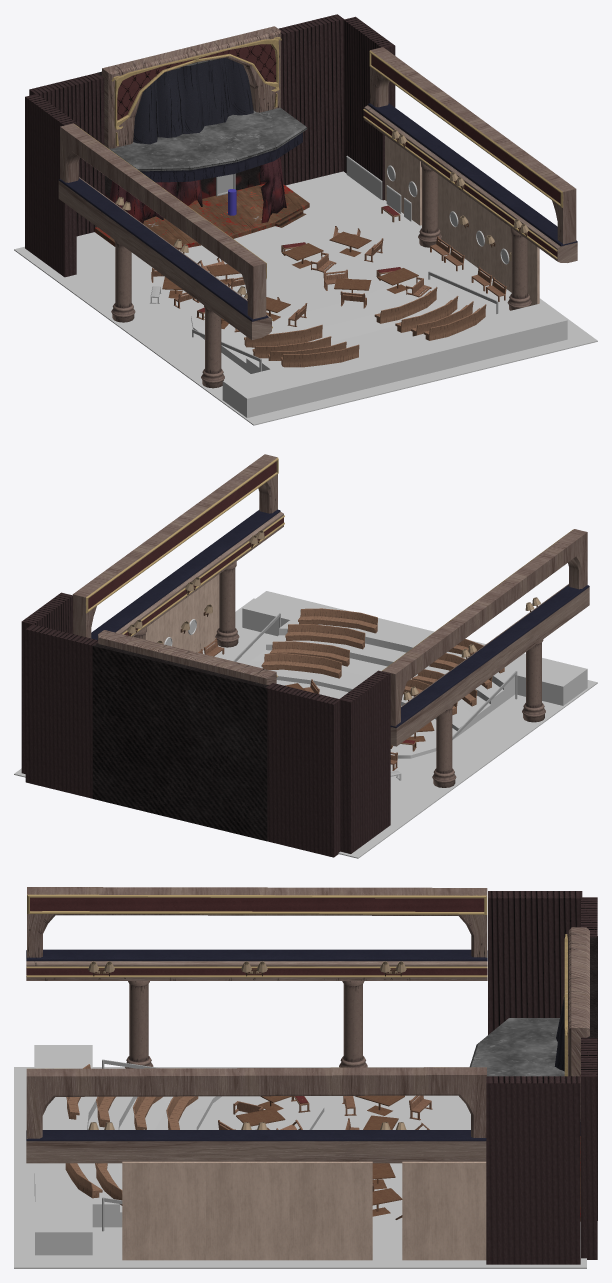
File: SalleSpectacle 1.fbx
The picture shows the model from 3 angles, top to bottom: view 1: azimuth 30°, elevation 25°; view 2: azimuth 150°, elevation 25°; view 3: azimuth 270°, elevation 25°; orthographic projection. The views are drawn at different scales.
Parts seen in each view (by area): view 1: pCube155, pCube156, pCube111, pCube113, decors_spectacle1, pCube112, pPlane6, pCube157, pCube119, pCube122, pCube126, pCube121 (+26 smaller); view 2: pCube114, pCube156, pCube111, pCube115, pCube155, pCube113, pCube157, pCube126, pCube112, pCube129, pCube122, pCube132 (+10 smaller); view 3: pCube111, pCube156, pCube122, pCube155, pCube157, pCube123, pCube131, pCube132, pCube130, decors_spectacle1, pCube127, pCube113 (+19 smaller).
Part boxes in pixels (x1,y1,x2,y2): pCube155: (191, 266, 567, 417); pCube156: (58, 123, 272, 339); pCube111: (363, 47, 577, 262); pCube113: (278, 14, 344, 185); decors_spectacle1: (109, 107, 307, 182); pCube112: (102, 26, 281, 148); pPlane6: (133, 58, 253, 144); pCube157: (25, 94, 76, 277); pCube119: (285, 171, 421, 251); pCube122: (343, 16, 395, 200); pCube126: (94, 289, 222, 366); pCube121: (14, 232, 165, 308); pCube114: (92, 643, 268, 841); pCube156: (382, 529, 589, 746); pCube111: (72, 454, 284, 639); pCube115: (265, 683, 340, 857); pCube155: (242, 591, 587, 758); pCube113: (25, 624, 97, 798); pCube157: (339, 670, 390, 853); pCube126: (390, 729, 517, 799); pCube112: (98, 630, 277, 684); pCube129: (468, 680, 597, 741); pCube122: (21, 592, 72, 773); pCube132: (189, 574, 219, 652); pCube111: (26, 1067, 486, 1163); pCube156: (26, 887, 487, 980); pCube122: (486, 1076, 580, 1264); pCube155: (34, 1045, 324, 1255); pCube157: (488, 891, 582, 1034); pCube123: (402, 1161, 486, 1260); pCube131: (205, 1161, 289, 1260); pCube132: (122, 1161, 205, 1260); pCube130: (289, 1161, 372, 1260); decors_spectacle1: (469, 1018, 580, 1135); pCube127: (14, 1201, 205, 1268); pCube113: (581, 1037, 597, 1259).
Size of the model in its own units: 142 by 174 by 69.66.
